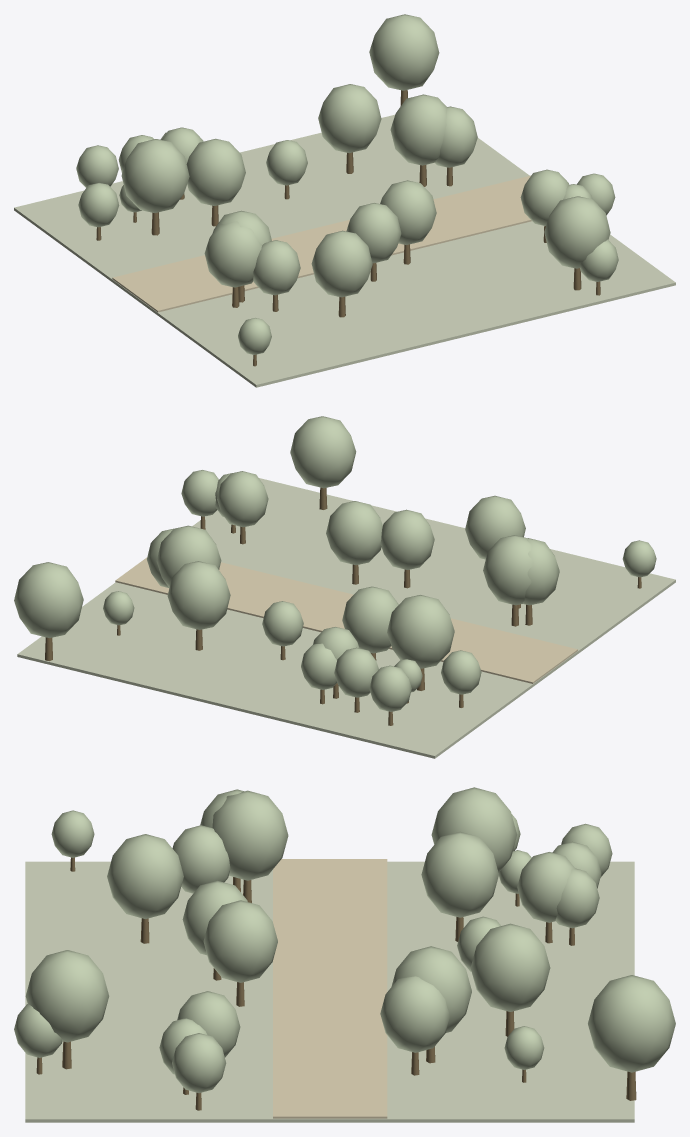
3 views of the same model, one above another, from view 1: azimuth 30°, elevation 25°; view 2: azimuth 150°, elevation 25°; view 3: azimuth 270°, elevation 25° (orthographic). The views are drawn at different scales.
Parts seen in each view (by area): view 1: terrain, object 2, lod-near-18, lod-near-25, lod-near-12, lod-near-1, lod-near-15, lod-near-3, lod-near-29, lod-near-7, lod-near-10, lod-near-23 (+11 smaller); view 2: terrain, object 2, lod-near-18, lod-near-25, lod-near-12, lod-near-1, lod-near-10, lod-near-21, lod-near-3, lod-near-23, lod-near-29, lod-near-15 (+12 smaller); view 3: terrain, object 2, lod-near-18, lod-near-12, lod-near-1, lod-near-3, lod-near-29, lod-near-21, lod-near-10, lod-near-20, lod-near-25, lod-near-15 (+15 smaller).
Part boxes in pixels (x1,y1,x2,y2): terrain: (14, 114, 675, 387); object 2: (112, 175, 531, 312); lod-near-18: (369, 14, 439, 90); lod-near-25: (121, 139, 189, 212); lod-near-12: (544, 196, 610, 268); lod-near-1: (318, 84, 381, 153); lod-near-15: (390, 94, 447, 165); lod-near-3: (186, 138, 245, 205); lod-near-29: (311, 230, 372, 297); lod-near-7: (204, 221, 261, 287); lod-near-10: (380, 180, 436, 244); lod-near-23: (346, 203, 401, 263); terrain: (17, 478, 675, 758); object 2: (115, 557, 577, 683); lod-near-18: (14, 562, 83, 637); lod-near-25: (387, 595, 454, 668); lod-near-12: (290, 416, 356, 488); lod-near-1: (167, 561, 230, 629); lod-near-10: (326, 501, 382, 565); lod-near-21: (483, 535, 533, 605); lod-near-3: (342, 586, 398, 653); lod-near-23: (380, 509, 434, 569); lod-near-29: (465, 495, 525, 559); lod-near-15: (156, 525, 221, 587); terrain: (25, 861, 634, 1122); object 2: (273, 859, 387, 1118); lod-near-18: (588, 975, 675, 1072); lod-near-12: (25, 950, 109, 1042); lod-near-1: (470, 923, 550, 1011); lod-near-3: (421, 831, 498, 917); lod-near-29: (107, 834, 183, 918); lod-near-21: (212, 790, 288, 880); lod-near-10: (203, 900, 277, 982); lod-near-20: (380, 976, 449, 1052); lod-near-25: (431, 787, 517, 872); lod-near-15: (391, 946, 471, 1032).
Bounding box in the file's own units: 32.42 × 7.31 × 34.76.
